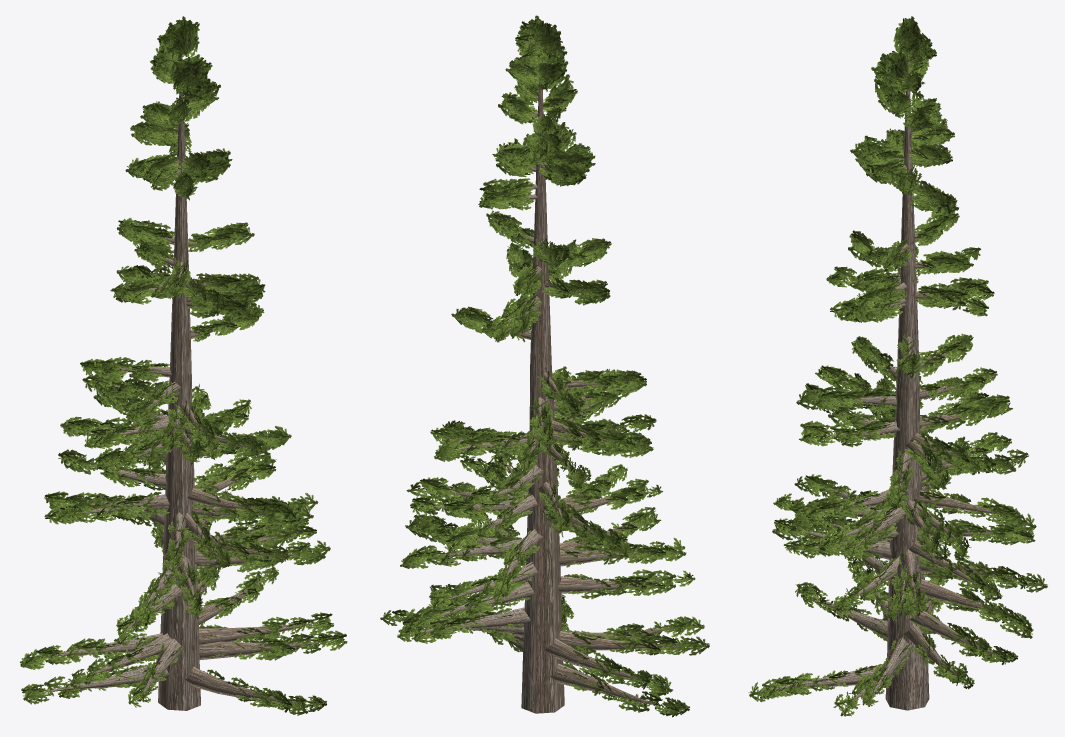
Rendered from eztree-eastern-redcedar-open-b.glb.
3 views of the same model, side by side, from view 1: azimuth 30°, elevation 25°; view 2: azimuth 150°, elevation 25°; view 3: azimuth 270°, elevation 25° (orthographic).
Parts seen in each view (by area): view 1: eztree-eastern-redcedar-open-b; view 2: eztree-eastern-redcedar-open-b; view 3: eztree-eastern-redcedar-open-b.
Boxes of the visible parts, left/top/right/bottom form: eztree-eastern-redcedar-open-b: left=20, top=16, right=347, bottom=715; eztree-eastern-redcedar-open-b: left=380, top=15, right=709, bottom=717; eztree-eastern-redcedar-open-b: left=748, top=16, right=1047, bottom=716.
Bounding box in the file's own units: 22.54 × 50.68 × 20.85.
Materials: 2 (2 with a texture image).
